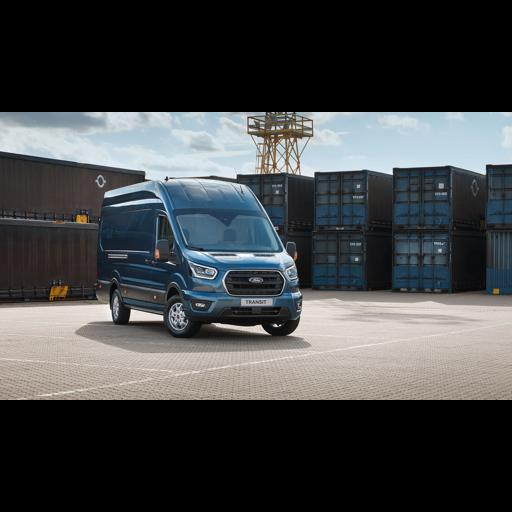van: (95, 179, 300, 336)
